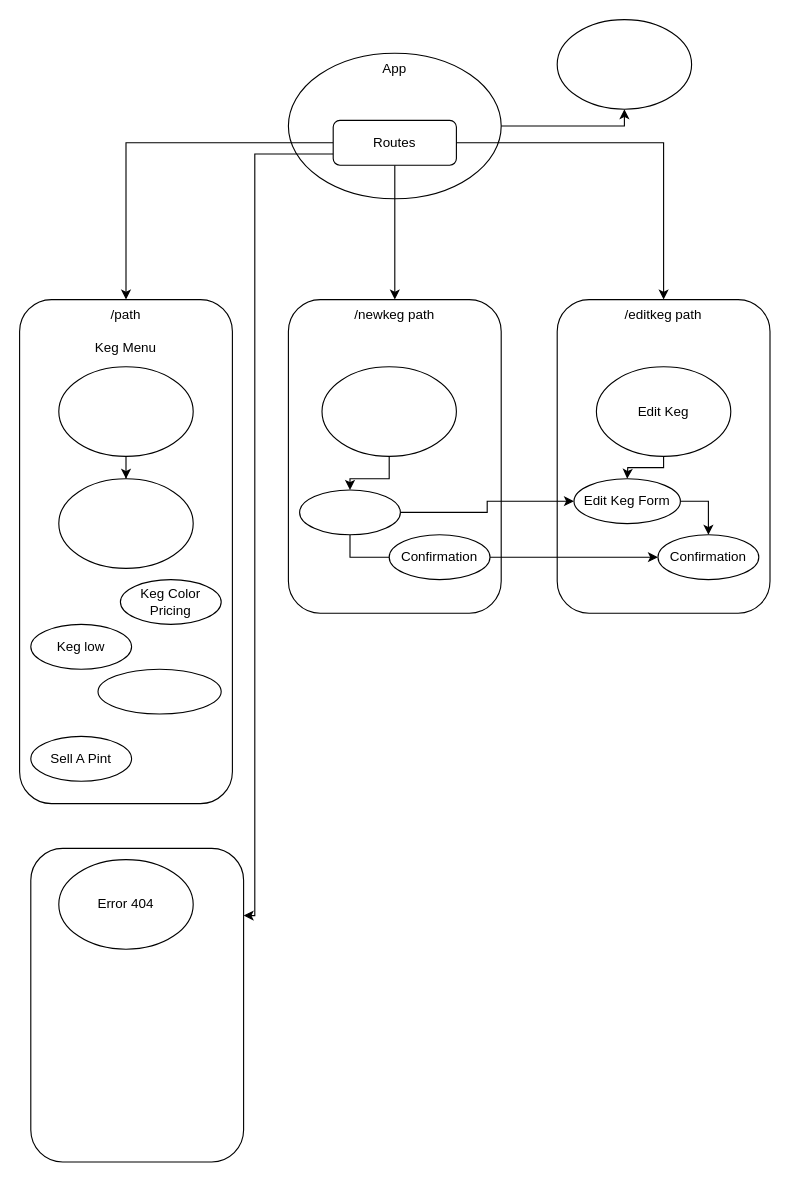
The diagram is 790 pixels wide and 1182 high, and some of its shapes have lost their labels. Here are the shapes that lost their labels. From the top down, the centre of each, then its label:
point 624,63: Header
point 125,411: Keg Menu
point 388,411: New Keg
point 125,523: Keg List
point 349,512: New Keg Form
point 159,691: Alcohol Content color code
